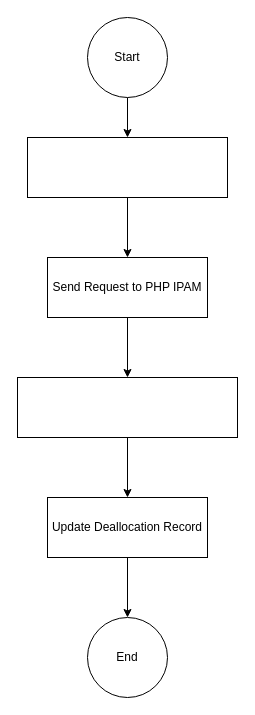
Some shapes in this 255 by 715 pixel diagram are drawn without their labels. Each missing label, with the box of its shape:
Create IpRangeDeallocationRequest: (26, 136, 228, 198)
Receive IpRangeDeallocationResponse: (16, 376, 238, 438)
